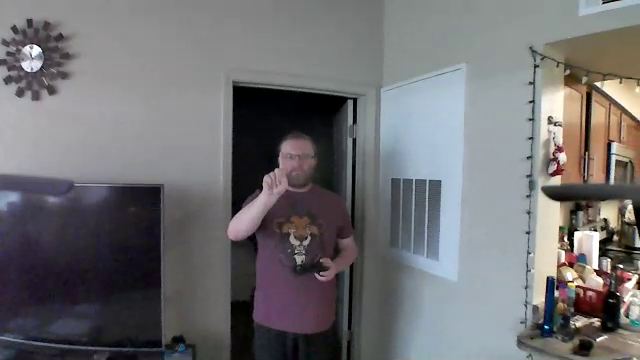up: (261, 147, 291, 199)
